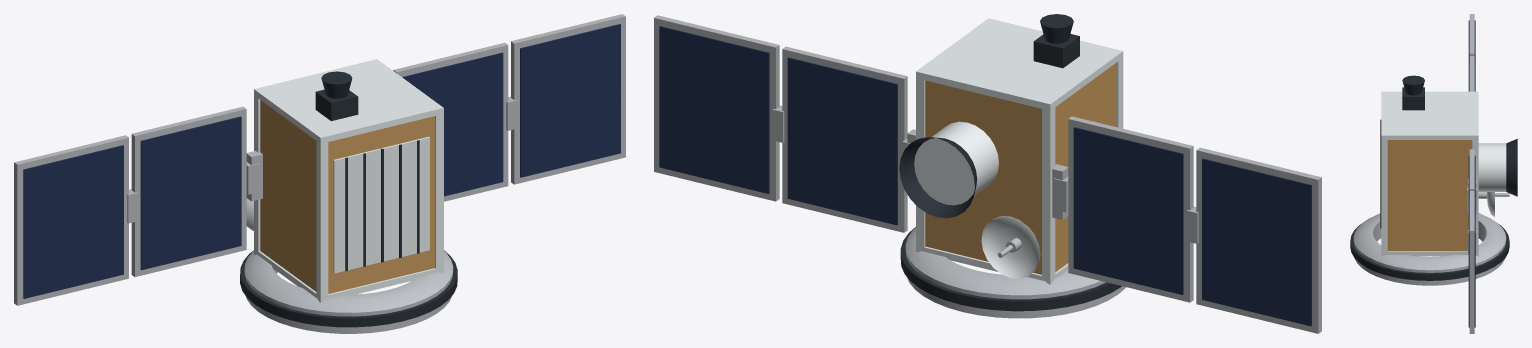
The model's file is satpwr_deployable_solar_wings.glb.
The picture shows the model from 3 angles, left to right: view 1: azimuth 30°, elevation 25°; view 2: azimuth 150°, elevation 25°; view 3: azimuth 270°, elevation 25°; orthographic projection. The views are drawn at different scales.
Parts seen in each view (by area): view 1: satpwr_deployable_solar_wings_mesh, satpwr_deployable_solar_wings_wing_l_mesh, satpwr_deployable_solar_wings_wing_l_outer_mesh, satpwr_deployable_solar_wings_wing_r_outer_mesh, satpwr_deployable_solar_wings_wing_r_mesh; view 2: satpwr_deployable_solar_wings_mesh, satpwr_deployable_solar_wings_wing_l_mesh, satpwr_deployable_solar_wings_wing_l_outer_mesh, satpwr_deployable_solar_wings_wing_r_outer_mesh, satpwr_deployable_solar_wings_wing_r_mesh; view 3: satpwr_deployable_solar_wings_mesh, satpwr_deployable_solar_wings_wing_r_outer_mesh, satpwr_deployable_solar_wings_wing_r_mesh, satpwr_deployable_solar_wings_wing_l_outer_mesh, satpwr_deployable_solar_wings_wing_l_mesh.
Boxes of the visible parts, <box> form: satpwr_deployable_solar_wings_mesh: <box>240,59,457,333</box>; satpwr_deployable_solar_wings_wing_l_mesh: <box>131,106,262,276</box>; satpwr_deployable_solar_wings_wing_l_outer_mesh: <box>14,135,137,305</box>; satpwr_deployable_solar_wings_wing_r_outer_mesh: <box>506,14,625,184</box>; satpwr_deployable_solar_wings_wing_r_mesh: <box>393,42,508,201</box>; satpwr_deployable_solar_wings_mesh: <box>899,14,1125,318</box>; satpwr_deployable_solar_wings_wing_l_mesh: <box>1052,116,1193,302</box>; satpwr_deployable_solar_wings_wing_l_outer_mesh: <box>1186,147,1321,333</box>; satpwr_deployable_solar_wings_wing_r_outer_mesh: <box>654,15,784,201</box>; satpwr_deployable_solar_wings_wing_r_mesh: <box>782,46,915,232</box>; satpwr_deployable_solar_wings_mesh: <box>1350,75,1517,285</box>; satpwr_deployable_solar_wings_wing_r_outer_mesh: <box>1468,191,1476,333</box>; satpwr_deployable_solar_wings_wing_r_mesh: <box>1467,149,1476,215</box>; satpwr_deployable_solar_wings_wing_l_outer_mesh: <box>1468,14,1475,62</box>; satpwr_deployable_solar_wings_wing_l_mesh: <box>1468,56,1475,91</box>.
Bounding box in the file's own units: 3.16 × 1.12 × 1.03.
